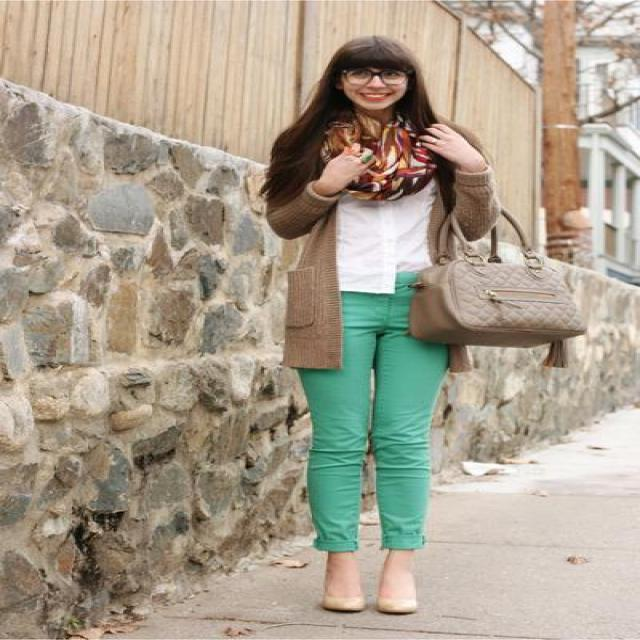bag: (408, 229, 586, 379)
jacket: (262, 173, 496, 369)
pants: (291, 291, 440, 552)
shirt: (336, 192, 434, 292)
